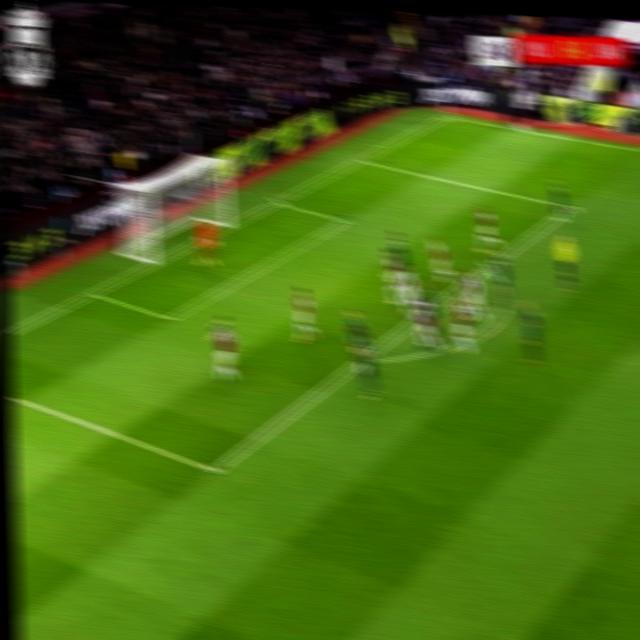bigarea_bottom_inner: (203, 458, 225, 481)
bigarea_top_inner: (563, 199, 580, 213)
bigarea_top_outter: (353, 152, 369, 165)
bottom_arc_area_intersection: (348, 357, 365, 369)
corner: (439, 112, 457, 120)
smallarea_bottom_inner: (159, 307, 181, 327)
smallarea_bottom_outter: (84, 284, 104, 300)
smallarea_top_inner: (333, 213, 352, 228)
smallarea_top_outter: (270, 195, 288, 209)
top_arc_area_intersection: (480, 260, 497, 274)
